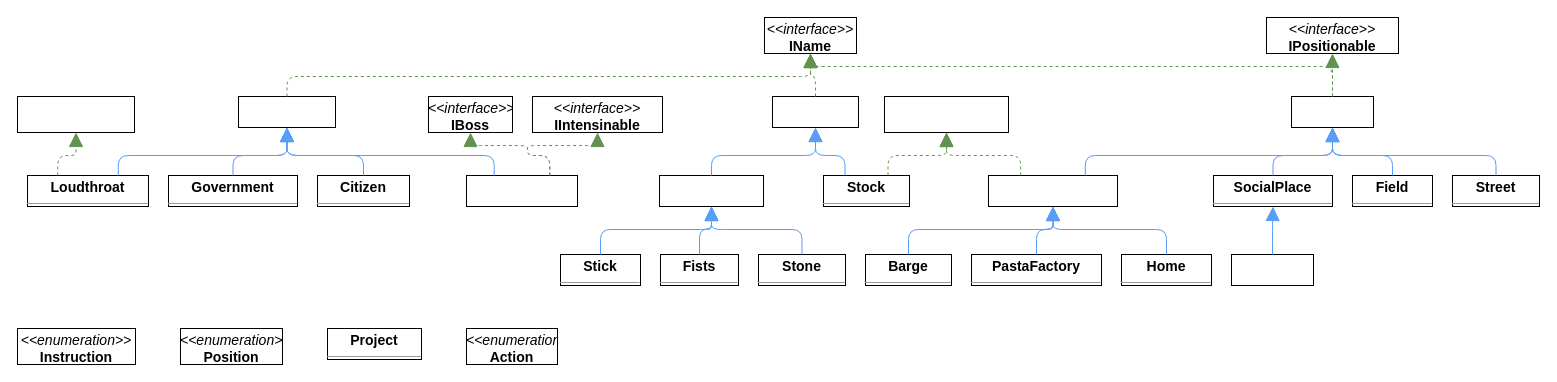
Image size: 1557x382. Some labels were removed from this diagram. The shapes that lost their labels are listed below. From the top down, each one's box as (x1, y1, x2, y2) in pixels, then its label:
(16, 96, 134, 132): <<interface>> IEmployee
(238, 96, 336, 128): Human
(772, 96, 858, 128): Thing
(884, 96, 1008, 132): <<interface>> IPossesable
(1290, 96, 1374, 128): Place
(466, 174, 578, 206): Millioners
(658, 174, 764, 206): Weapon
(988, 174, 1118, 206): Immovables
(1230, 254, 1314, 286): Plaza
